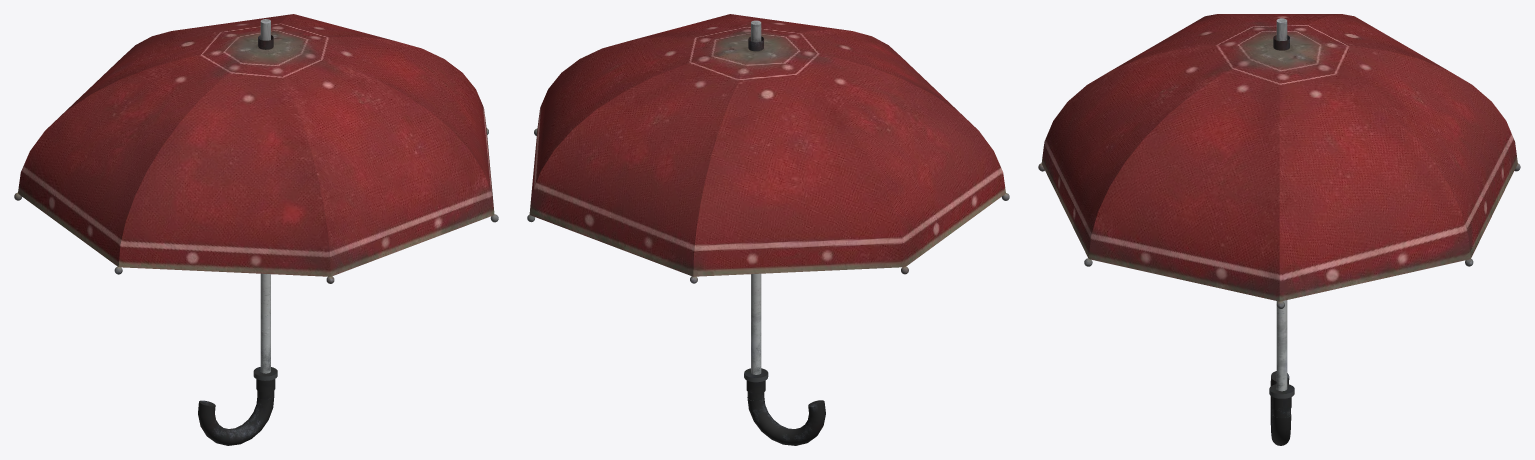
File: umbrella.glb
The picture shows the model from 3 angles, left to right: view 1: azimuth 30°, elevation 25°; view 2: azimuth 150°, elevation 25°; view 3: azimuth 270°, elevation 25°; orthographic projection. The views are drawn at different scales.
Parts seen in each view (by area): view 1: Red Umbrella; view 2: Red Umbrella; view 3: Red Umbrella.
Boxes of the visible parts, x1,y1,x2,y2 form: Red Umbrella: (14,14,498,445); Red Umbrella: (527,14,1009,445); Red Umbrella: (1038,14,1520,445).
Bounding box in the file's own units: 2 × 1.87 × 1.87.
1 material, 1 textured.
